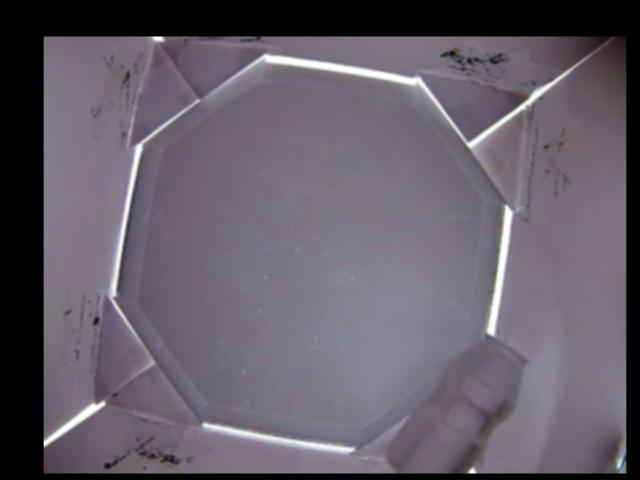Bottle: (382, 334, 531, 473)
